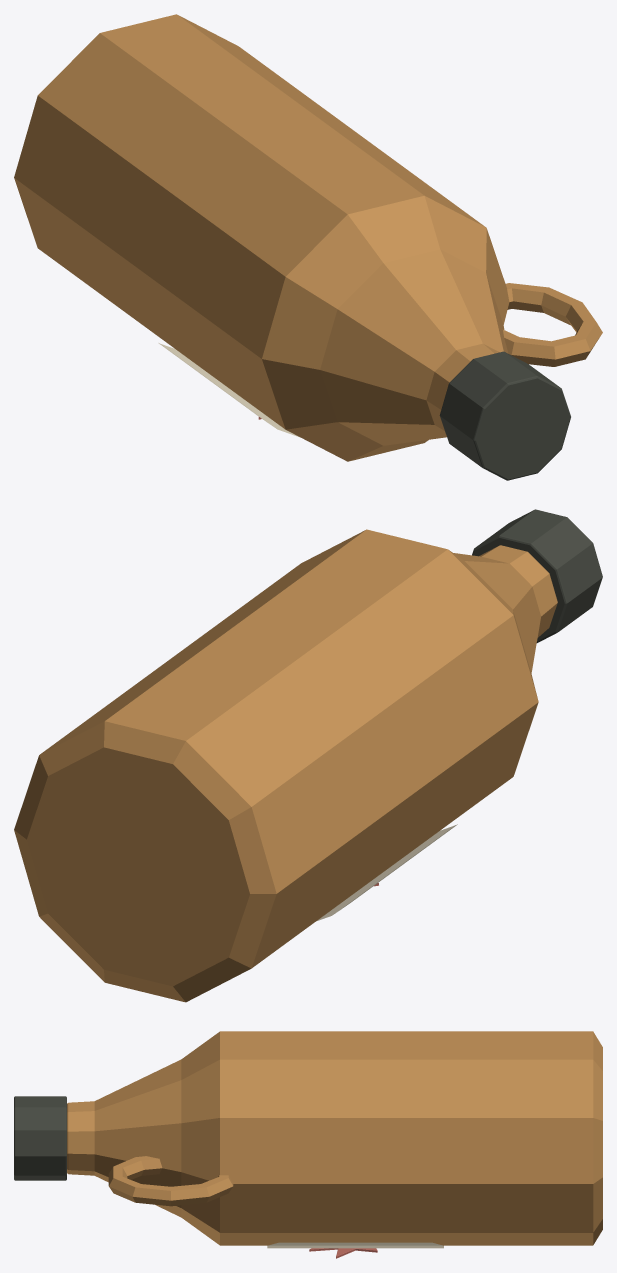
The model's file is maple_syrup.glb.
3 views of the same model, one above another, from view 1: azimuth 30°, elevation 25°; view 2: azimuth 150°, elevation 25°; view 3: azimuth 270°, elevation 25° (orthographic). The views are drawn at different scales.
Visible parts, largest first — view 1: maple_syrup; view 2: maple_syrup; view 3: maple_syrup.
Part boxes in pixels (x1,y1,x2,y2): maple_syrup: [14, 14, 602, 480]; maple_syrup: [14, 509, 602, 1002]; maple_syrup: [14, 1031, 602, 1258].
Size of the model in its own units: 0.078 by 0.0657 by 0.18.
